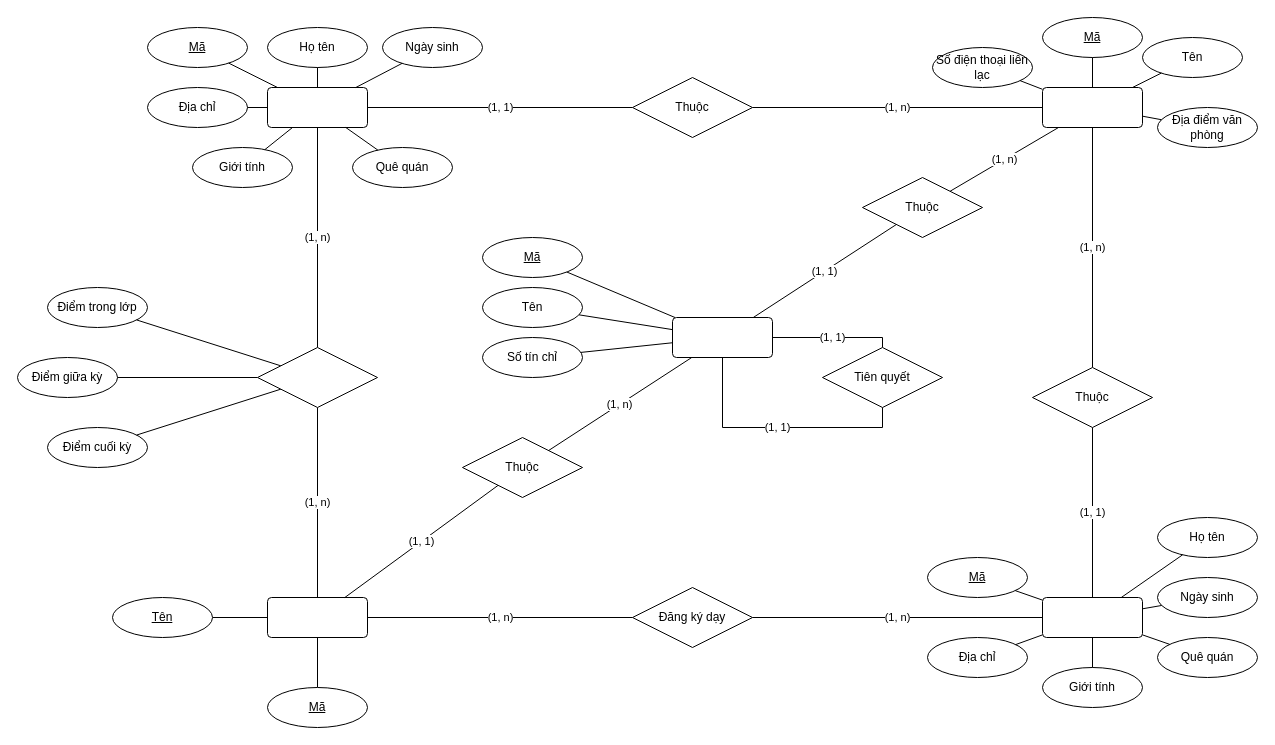
Image size: 1275x745. Some labels were removed from this diagram. Here are the shapes that lost their labels. From the top down, the centre of each, then its label:
the point at 317,107: Sinh viên
the point at 1092,107: Khoa
the point at 722,337: Môn học
the point at 317,377: Điểm
the point at 317,617: Lớp học phần
the point at 1092,617: Giảng viên
